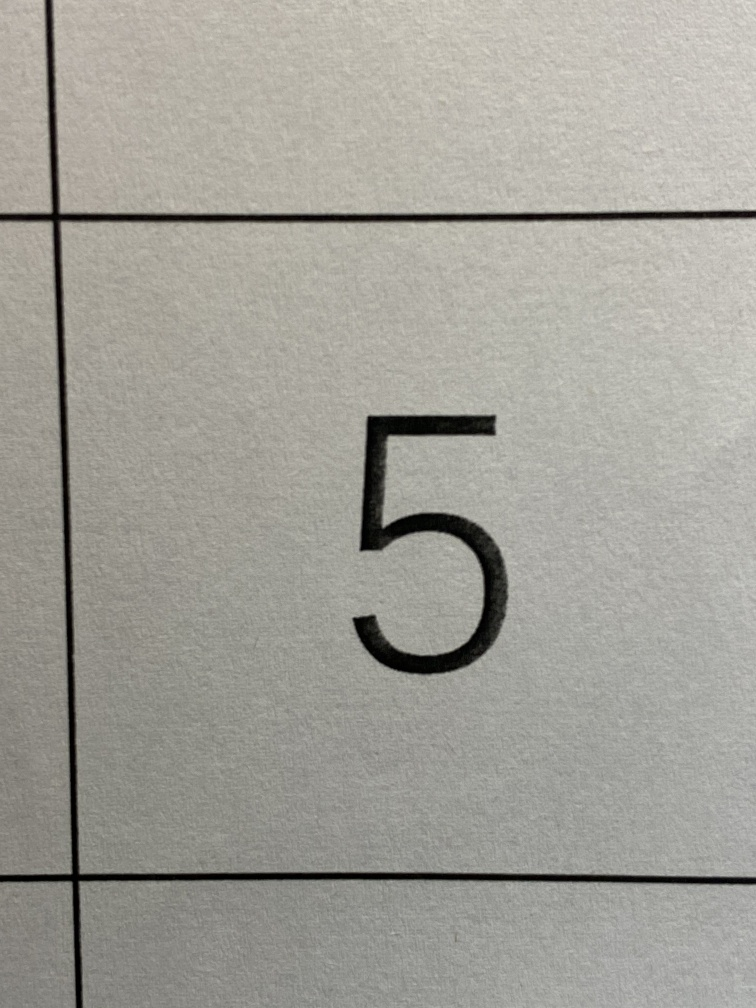five: (282, 351, 575, 735)
